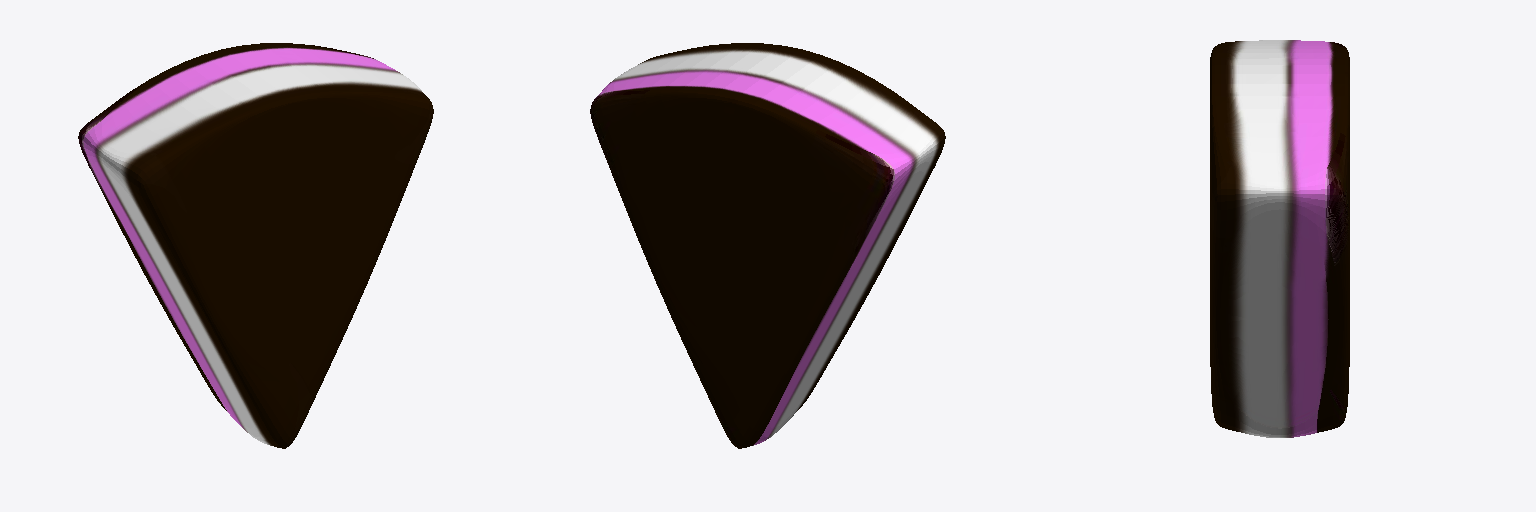
3 renders of one model, left to right at view 1: azimuth 30°, elevation 25°; view 2: azimuth 150°, elevation 25°; view 3: azimuth 270°, elevation 25°, orthographic.
Bounding box in the file's own units: 0.8815 × 1 × 0.3489.
Materials: 1 (1 with a texture image).